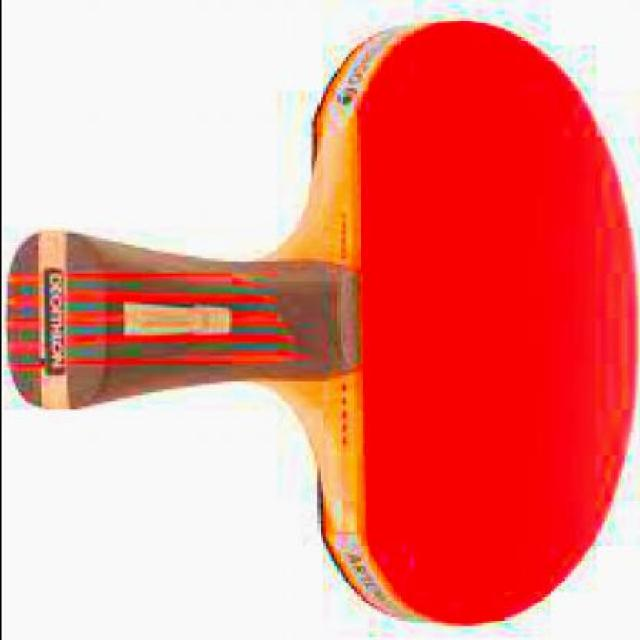table_tennis_racket: (282, 15, 640, 627)
